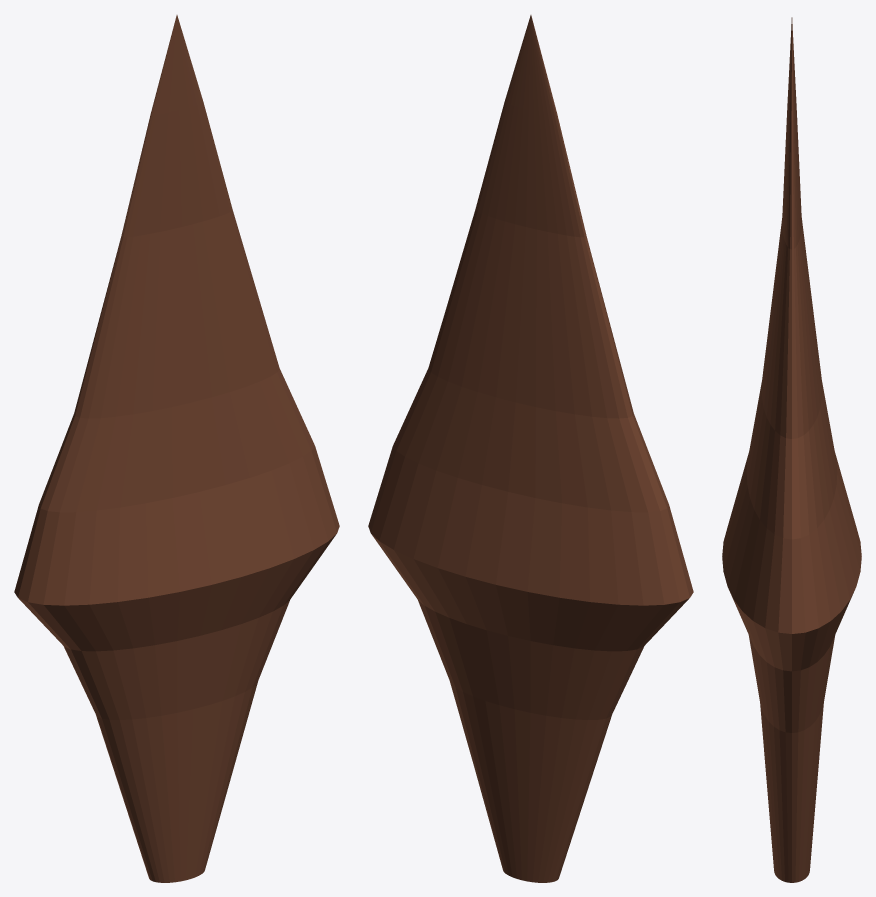
File: Speartip.fbx
3 renders of one model, left to right at view 1: azimuth 30°, elevation 25°; view 2: azimuth 150°, elevation 25°; view 3: azimuth 270°, elevation 25°, orthographic.
Visible parts, largest first — view 1: Cylinder.001; view 2: Cylinder.001; view 3: Cylinder.001.
Part boxes in pixels (<box>): Cylinder.001: <box>14,15,339,882</box>; Cylinder.001: <box>368,15,693,882</box>; Cylinder.001: <box>722,17,861,882</box>.
Size of the model in its own units: 57 by 147 by 21.77.
1 material, 1 textured.
